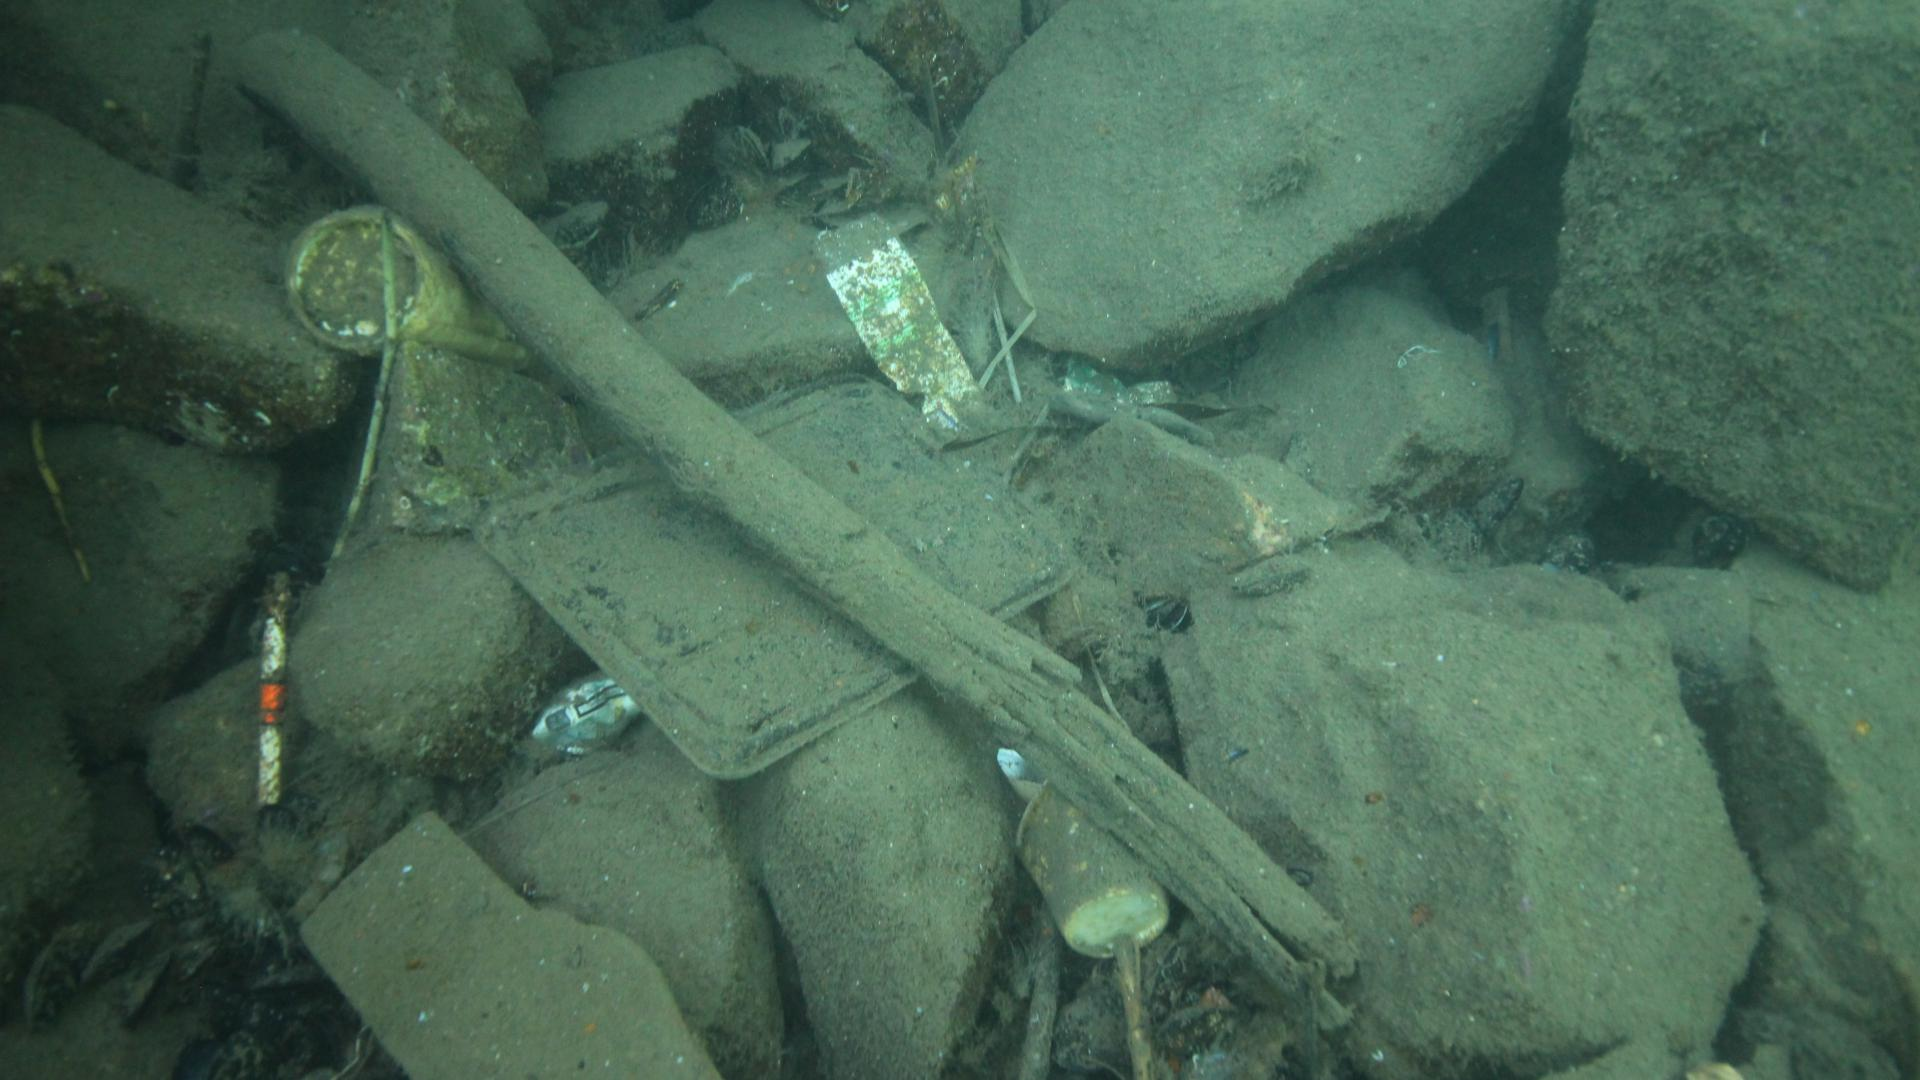wood: (227, 26, 1360, 1033)
